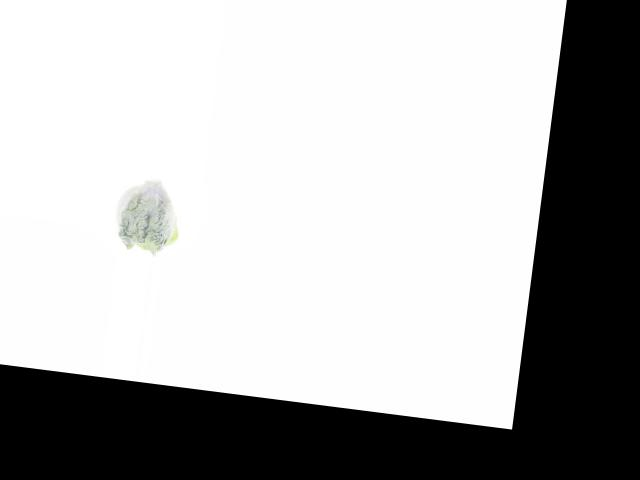lettuce: (109, 175, 188, 257)
